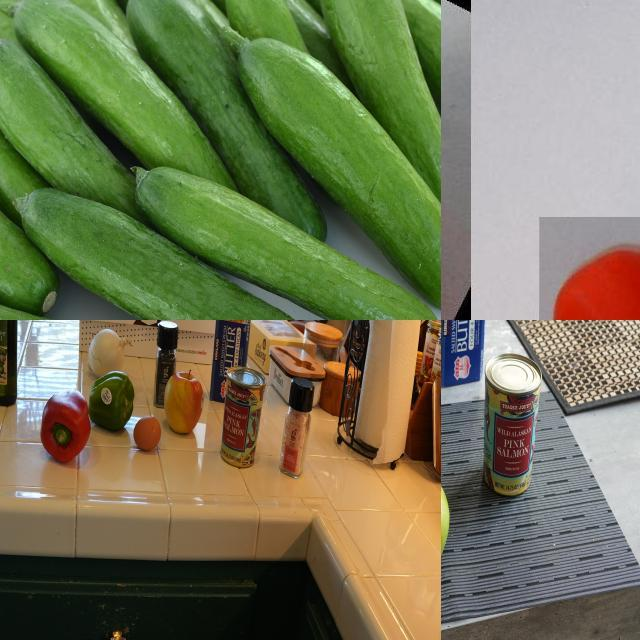bell_pepper: (38, 393, 94, 467), (93, 371, 132, 433), (149, 321, 178, 404)
cucumber: (229, 29, 442, 316), (133, 162, 442, 321), (128, 1, 328, 246), (13, 187, 345, 321), (14, 1, 239, 195), (322, 1, 442, 232), (1, 106, 59, 314), (1, 273, 204, 321), (1, 20, 48, 219)
egg: (134, 415, 162, 455)
onion: (87, 329, 135, 379)
tomato: (540, 217, 640, 321)
